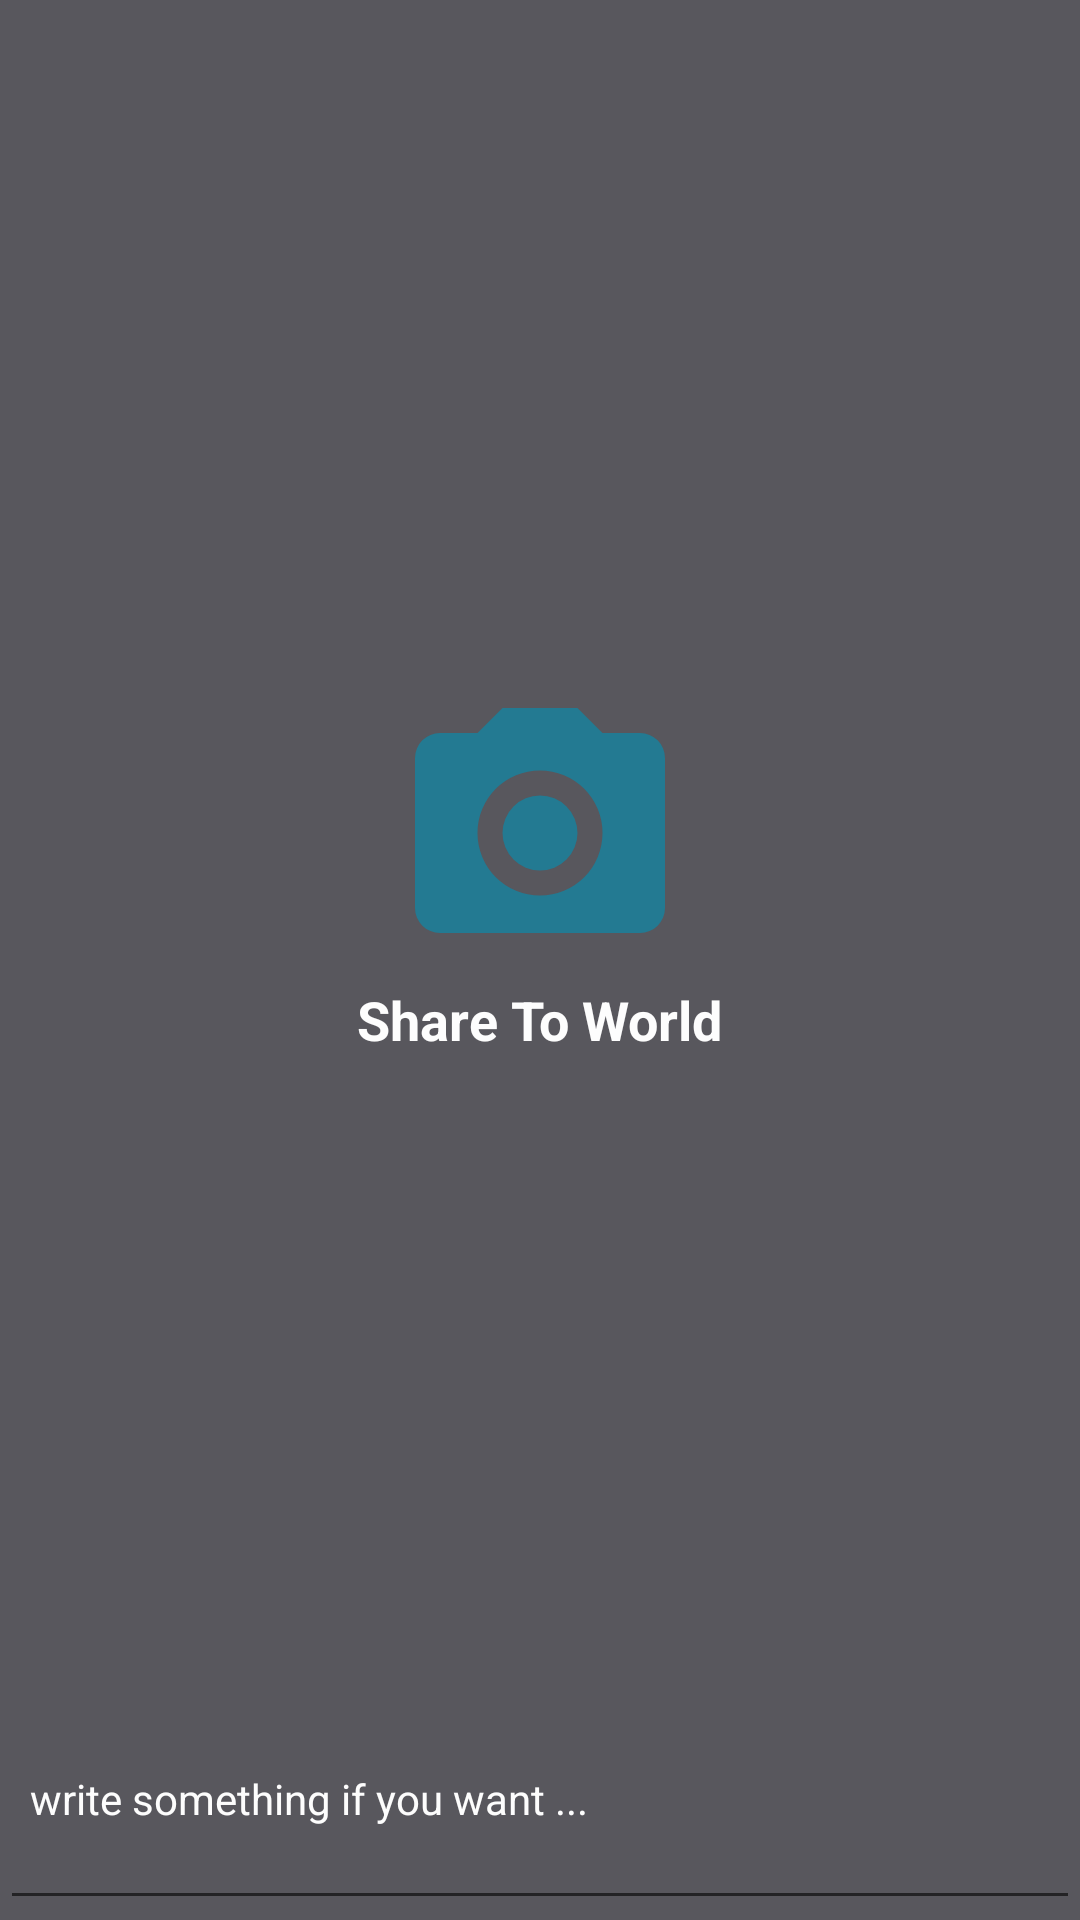

Icons on this 1080 x 1920 Android screen, each with its box as (x1, y1, x2, y2):
camera: (415, 708, 665, 933)
